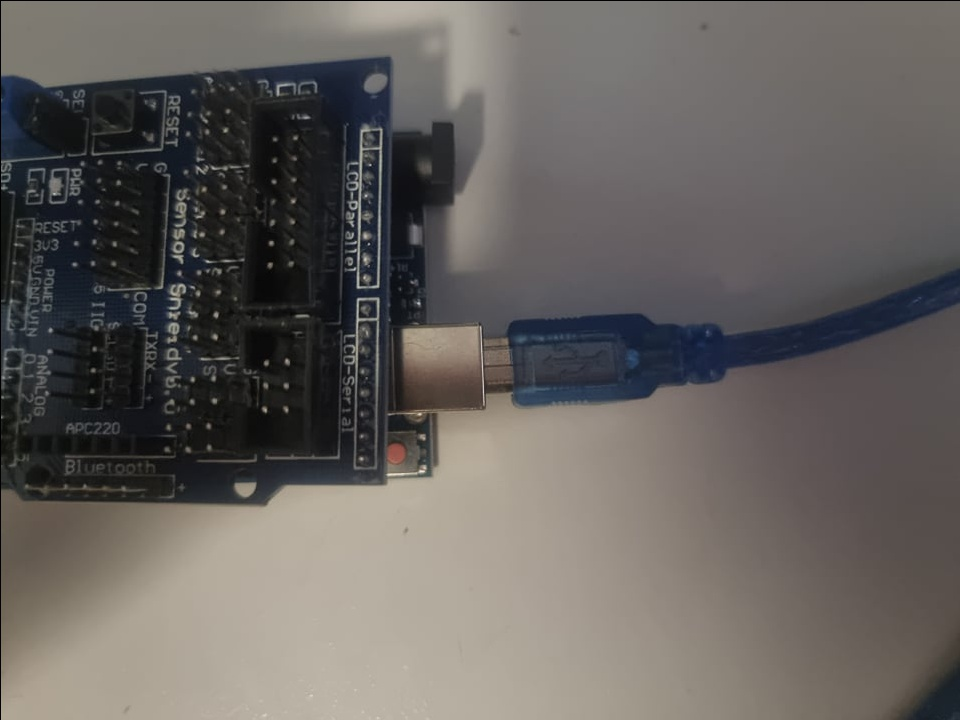5V EXPANSION: (0, 66, 387, 517)
UNO R3: (390, 53, 487, 495)
